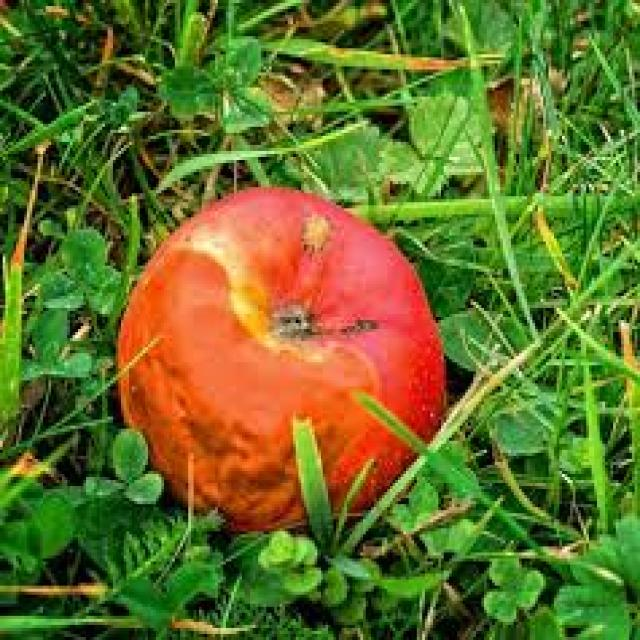food_waste: (116, 187, 444, 528)
